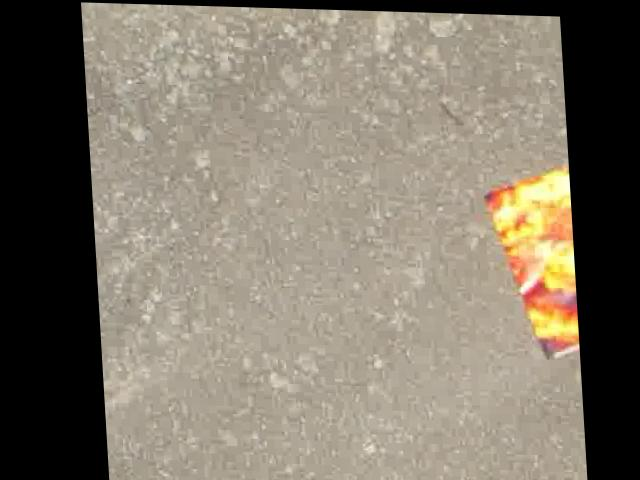fire-poster: (479, 155, 575, 360)
